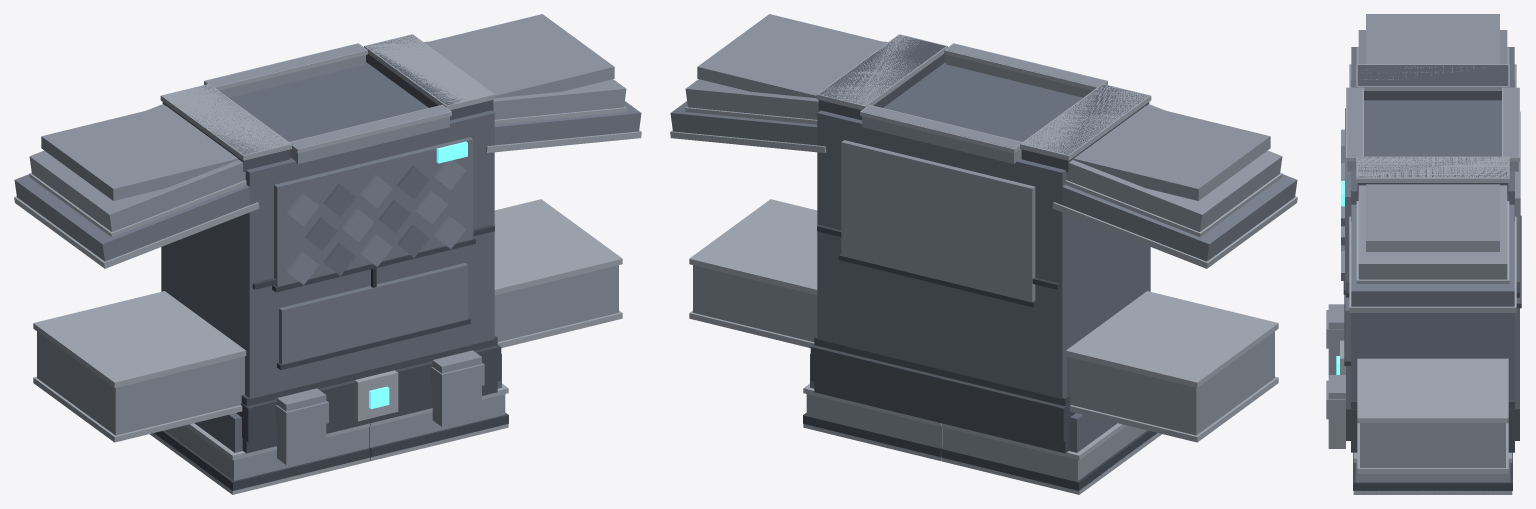
3 renders of one model, left to right at view 1: azimuth 30°, elevation 25°; view 2: azimuth 150°, elevation 25°; view 3: azimuth 270°, elevation 25°, orthographic. The views are drawn at different scales.
Parts seen in each view (by area): view 1: reinforced-vest; view 2: reinforced-vest; view 3: reinforced-vest.
Part boxes in pixels (bbox=[...]): reinforced-vest: bbox=[14, 14, 641, 494]; reinforced-vest: bbox=[670, 14, 1297, 494]; reinforced-vest: bbox=[1326, 14, 1521, 494].
Bounding box in the file's own units: 1.21 × 0.7188 × 0.4092.
